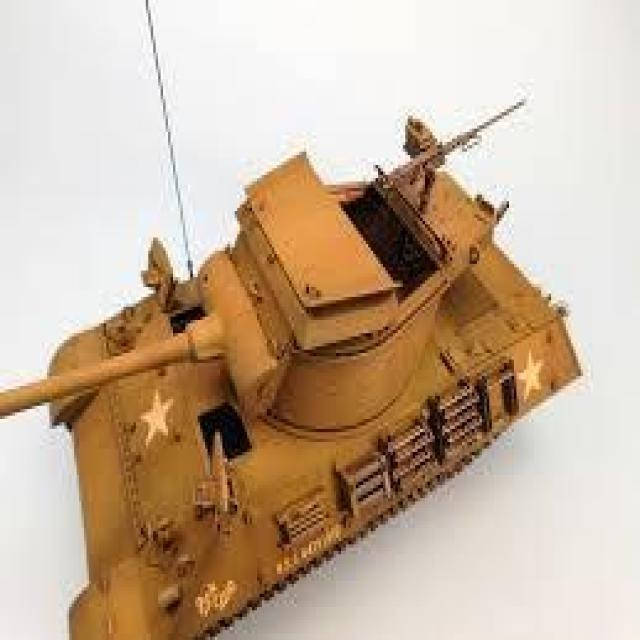MIL_MBT: (42, 104, 583, 632)
